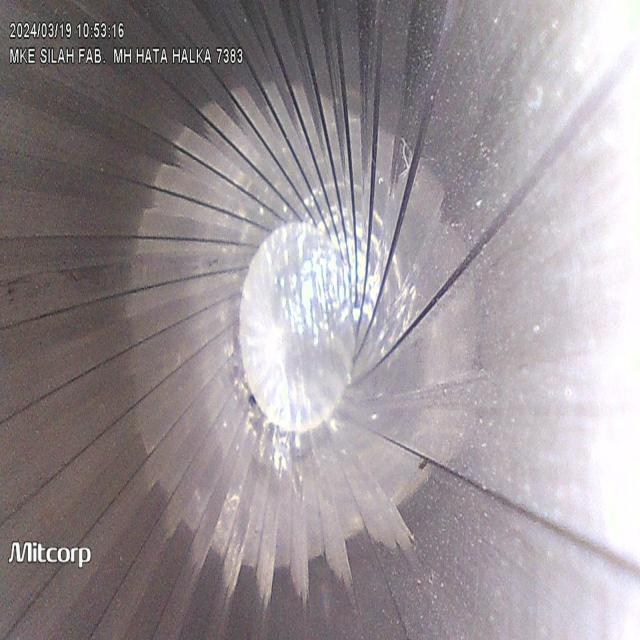hata_4.2: (407, 441, 447, 504)
